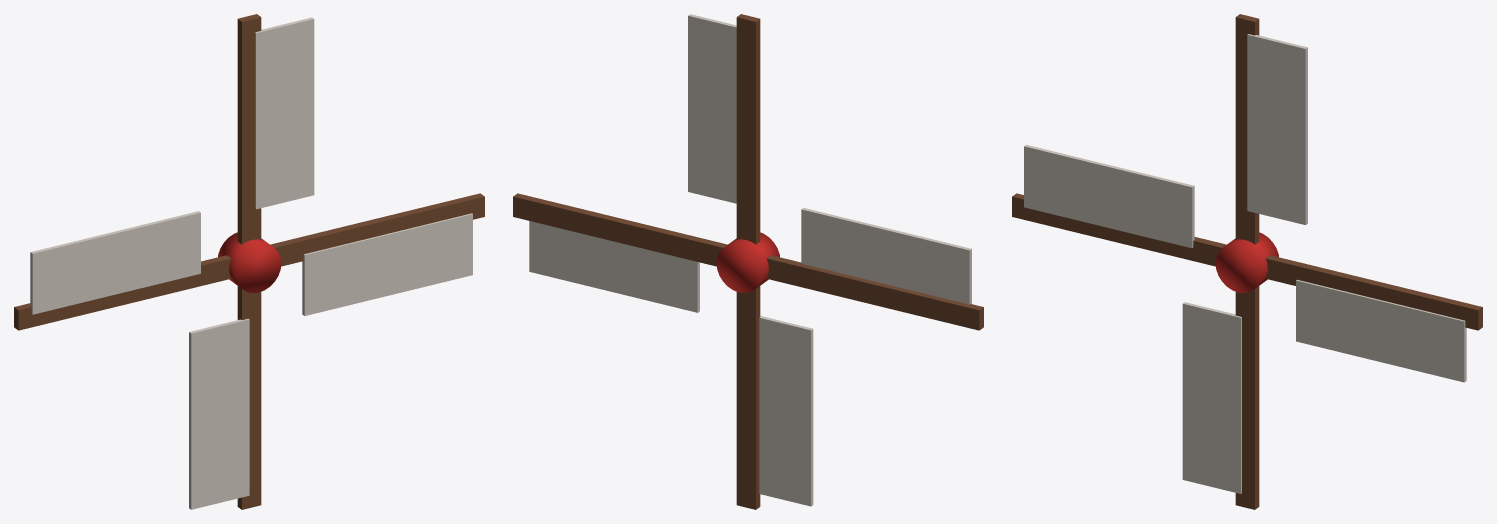
File: windmill_blades.glb
3 renders of one model, left to right at view 1: azimuth 30°, elevation 25°; view 2: azimuth 150°, elevation 25°; view 3: azimuth 330°, elevation 25°, orthographic.
Parts seen in each view (by area): view 1: windmill_blades; view 2: windmill_blades; view 3: windmill_blades.
Boxes of the visible parts, <box> form: windmill_blades: <box>14,14,484,509</box>; windmill_blades: <box>513,14,983,509</box>; windmill_blades: <box>1012,14,1482,509</box>.
Bounding box in the file's own units: 0.72 × 0.72 × 0.05.
